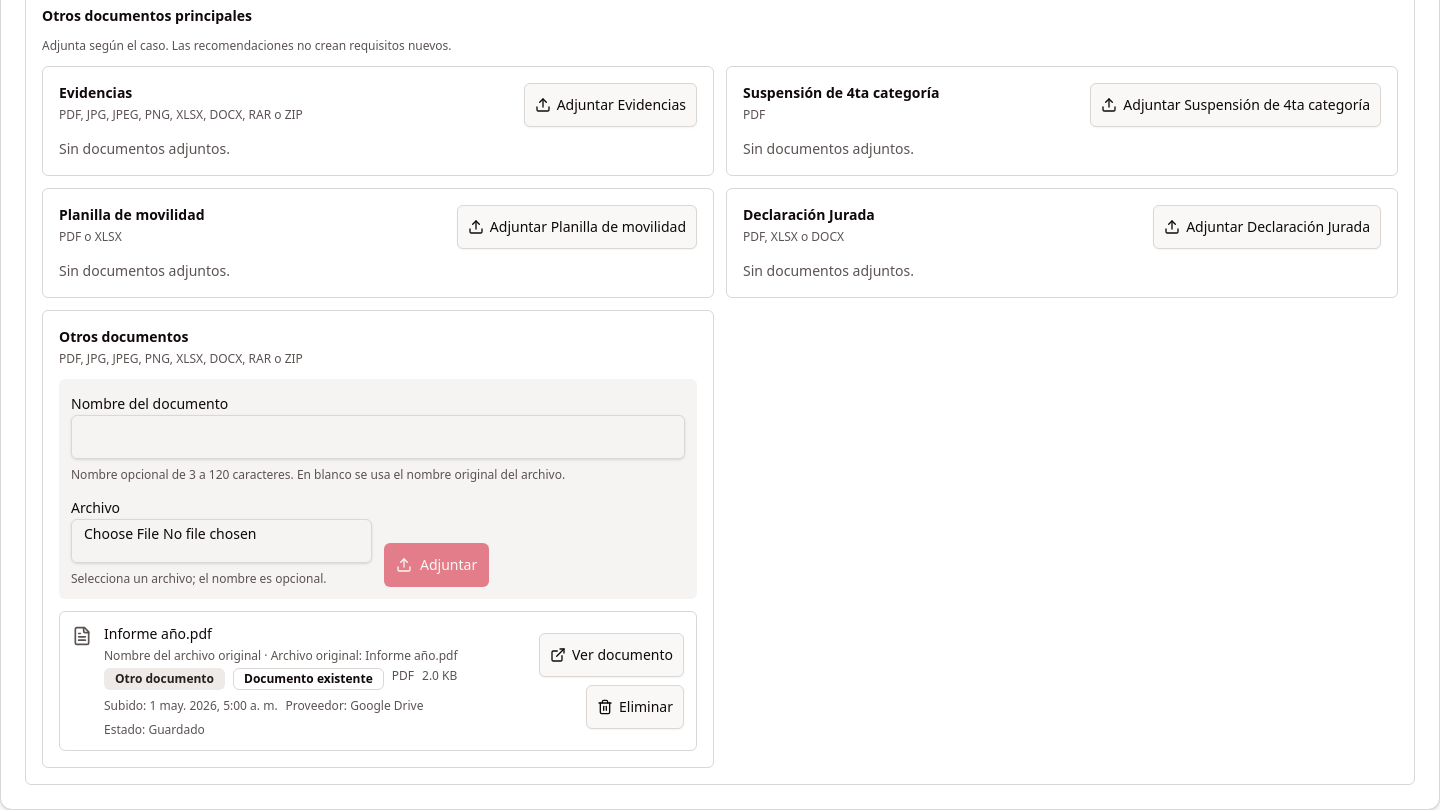
Test: RequestDocumentsCard › hides path provenance in SUPPLIER_PAYMENT history, link, delete and confirmation names
This screenshot has width=1440, height=810.
(page scrolled)
Expected: the text "Informe año.pdf" is shown, left=104, top=624, right=212, bottom=643
Expected: the text "Archivo original: Informe año.pdf" is shown, left=104, top=647, right=458, bottom=664
Click the button with aria-label "Eliminar Informe año.pdf".
click(635, 707)  # box left=586, top=685, right=684, bottom=729
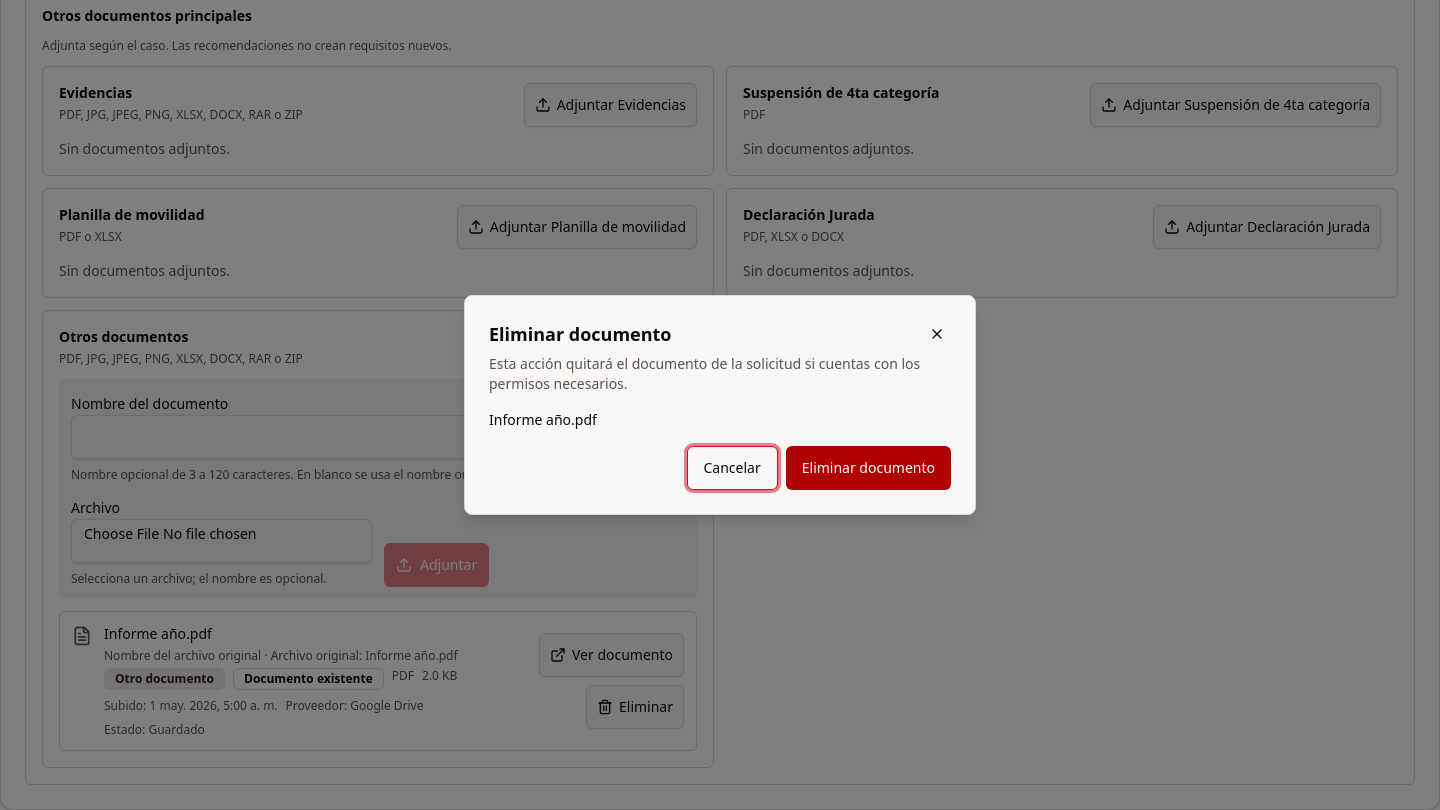
Expected: the dialog does not show "private", left=464, top=295, right=976, bottom=515
Expected: the dialog shows "Informe año.pdf", left=489, top=410, right=597, bottom=429
